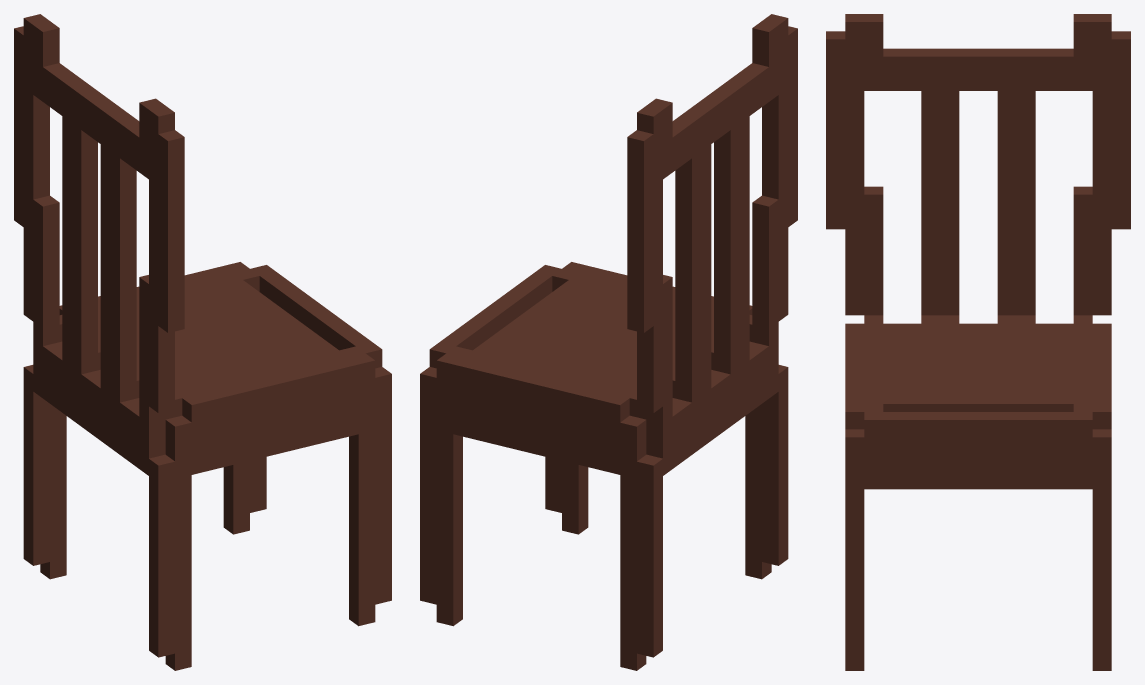
File: wood-chair.dae
3 views of the same model, side by side, from view 1: azimuth 30°, elevation 25°; view 2: azimuth 150°, elevation 25°; view 3: azimuth 270°, elevation 25° (orthographic).
Visible parts, largest first — view 1: pl0; view 2: pl0; view 3: pl0.
Part boxes in pixels (x1,y1,x2,y2): pl0: [14, 14, 391, 670]; pl0: [420, 14, 797, 670]; pl0: [826, 14, 1130, 670].
Bounding box in the file's own units: 14 × 16 × 32.
